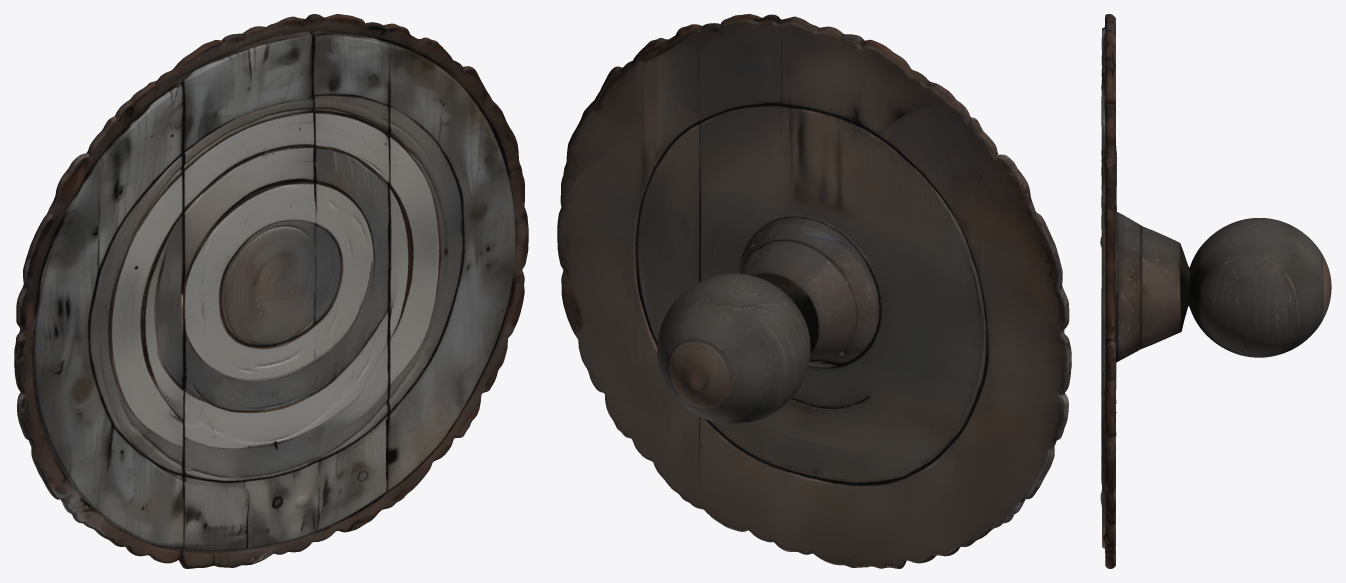
File: tripo_convert_be710028-7060-4dce-8822-7cb883f6f41d.fbx
3 views of the same model, side by side, from view 1: azimuth 30°, elevation 25°; view 2: azimuth 150°, elevation 25°; view 3: azimuth 270°, elevation 25° (orthographic). The views are drawn at different scales.
Parts seen in each view (by area): view 1: tripo_node_be710028; view 2: tripo_node_be710028; view 3: tripo_node_be710028.
Boxes of the visible parts, x1,y1,x2,y2 form: tripo_node_be710028: (14,14,528,568); tripo_node_be710028: (557,14,1071,568); tripo_node_be710028: (1100,14,1331,568).
Bounding box in the file's own units: 1 × 0.999 × 0.4205.
Materials: 1 (1 with a texture image).
